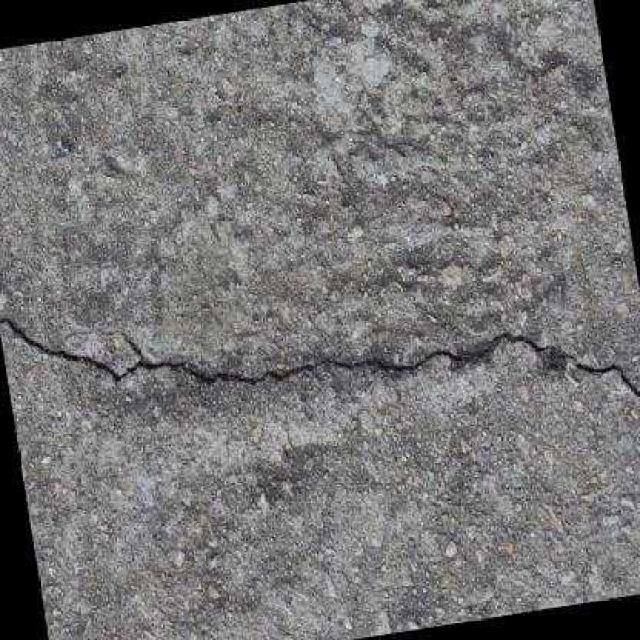D00: (0, 311, 640, 401)
